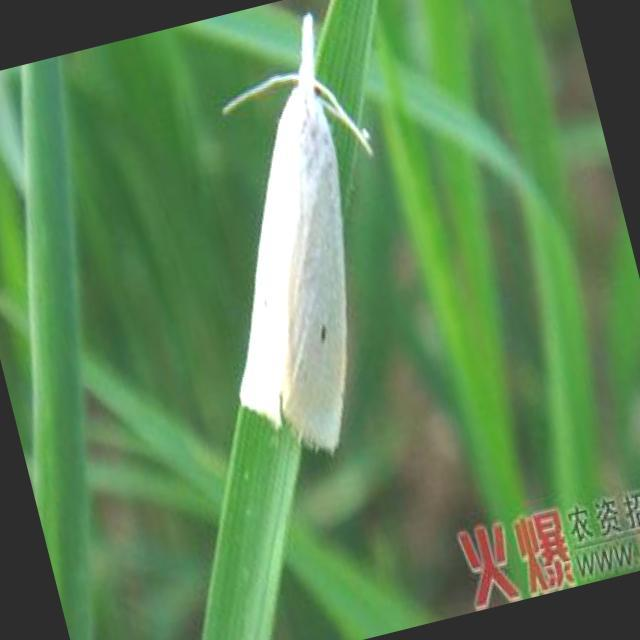stem borer: (223, 14, 371, 451)
